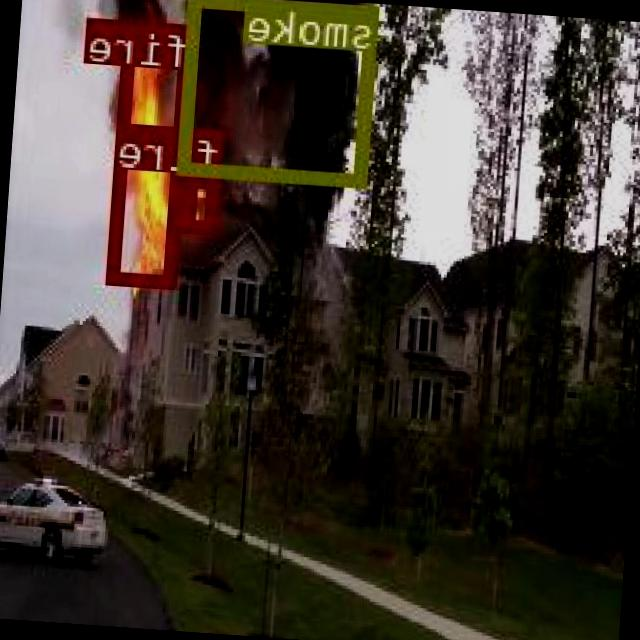fire: (109, 20, 196, 285), (184, 172, 222, 232)
smoke: (178, 0, 381, 183)
